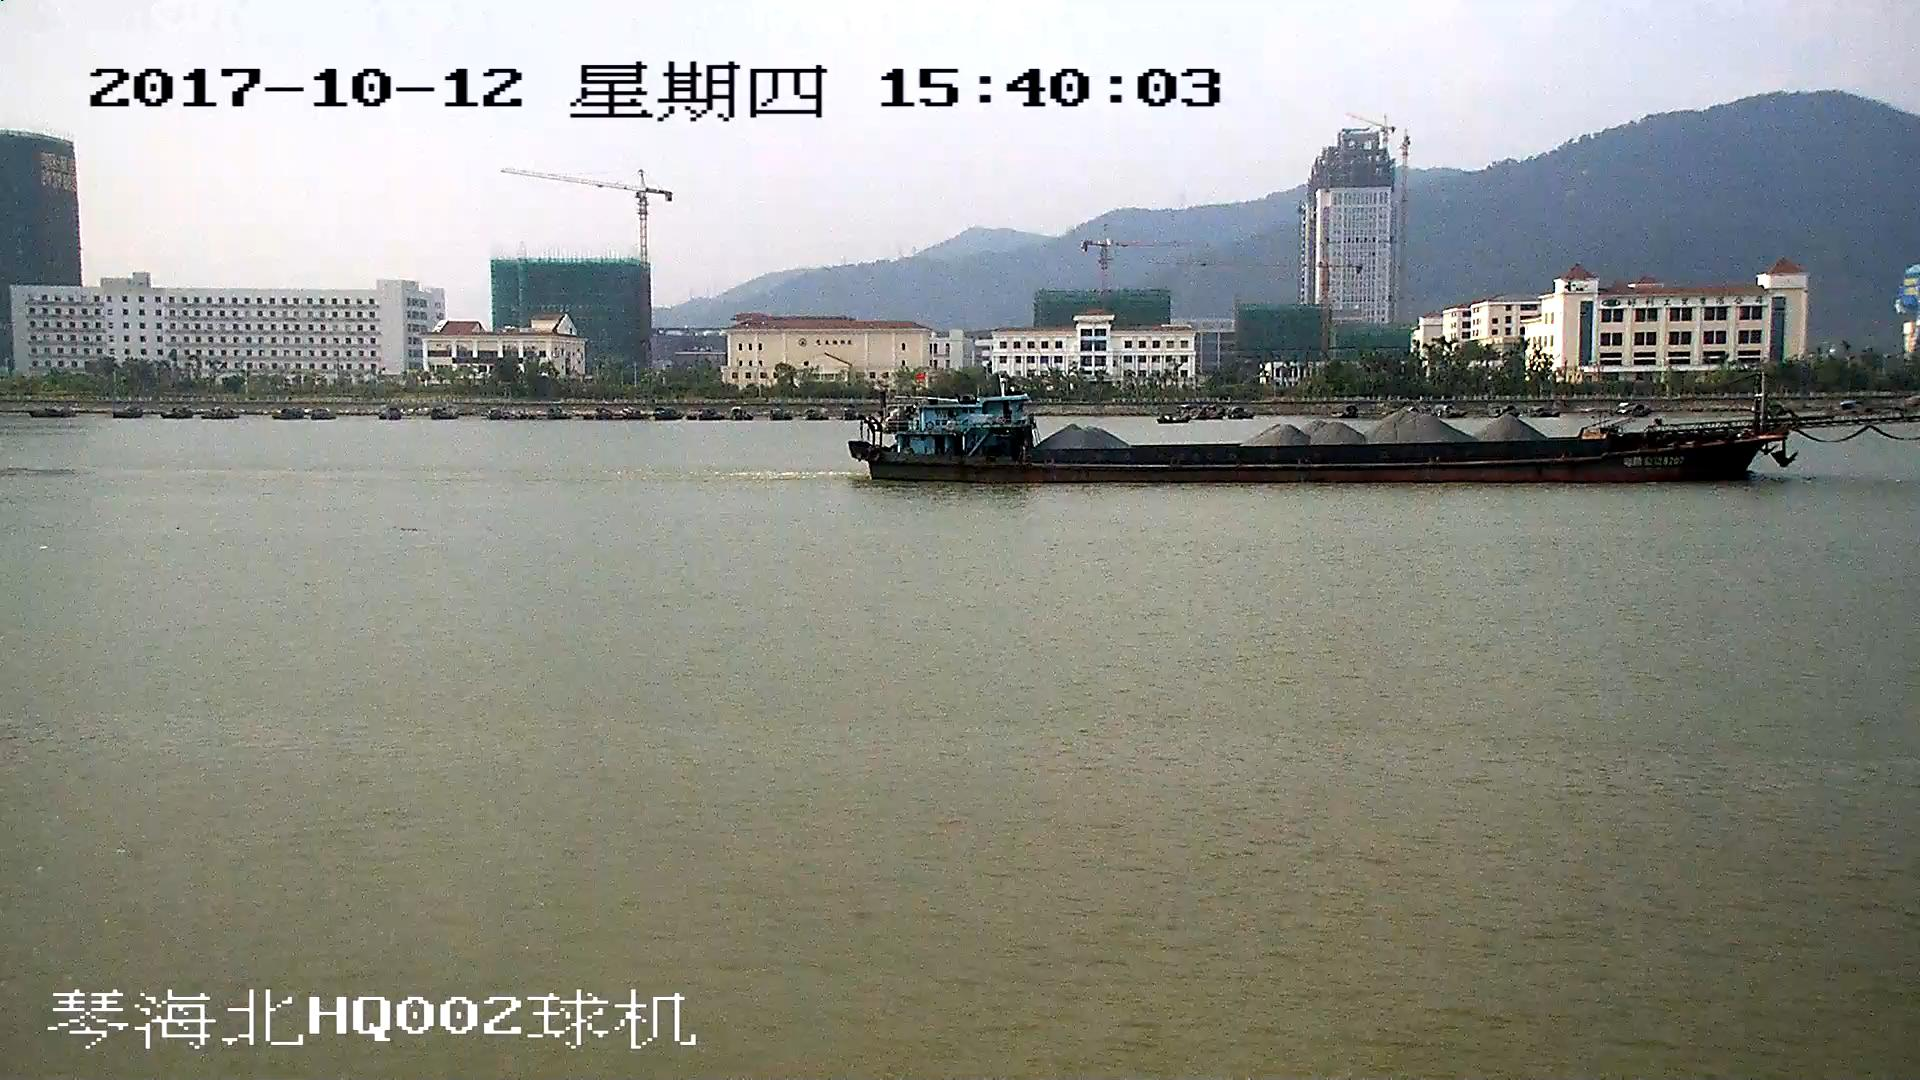ore carrier: (855, 372, 1920, 487)
